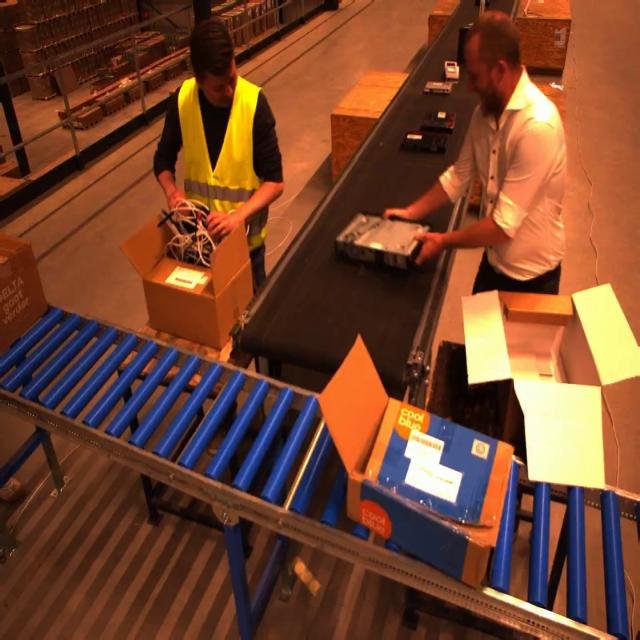box: (320, 334, 516, 584), (457, 283, 637, 488), (119, 209, 255, 349), (334, 211, 427, 271)
product: (400, 131, 449, 154), (420, 111, 457, 134), (456, 24, 473, 66), (423, 81, 453, 95), (444, 61, 460, 81)
